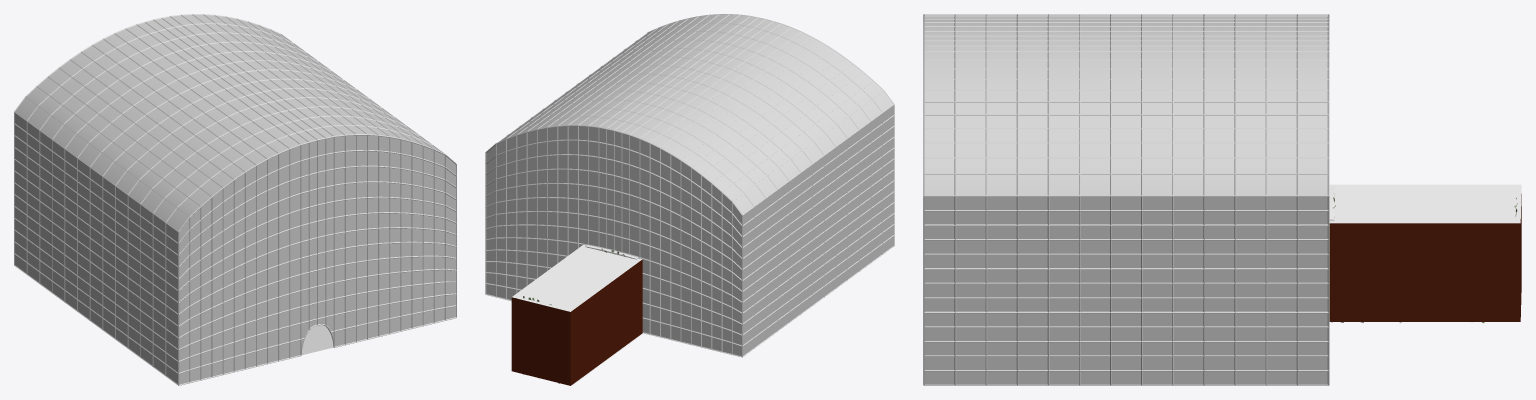
The model's file is MazeBackGroundPuzzle.fbx.
3 views of the same model, side by side, from view 1: azimuth 30°, elevation 25°; view 2: azimuth 150°, elevation 25°; view 3: azimuth 270°, elevation 25° (orthographic). The views are drawn at different scales.
Visible parts, largest first — view 1: Box016, Cell, Box017, Object038; view 2: Box016, Cell, Box017, Object015, CellEnt; view 3: Box016, Cell, Box017, Object015, CellEnt.
Boxes of the visible parts, x1,y1,x2,y2 form: Box016: (15,113,455,384); Cell: (15,15,440,230); Box017: (14,14,456,385); Object038: (301,325,333,355); Box016: (486,105,893,356); Cell: (499,14,892,214); Box017: (485,14,894,357); Object015: (511,245,642,385); CellEnt: (512,245,642,311); Box016: (925,196,1327,384); Cell: (925,15,1327,195); Box017: (923,14,1329,385); Object015: (1329,186,1521,321); CellEnt: (1329,184,1521,223).
Bounding box in the file's own units: 963 × 711 × 1451.
